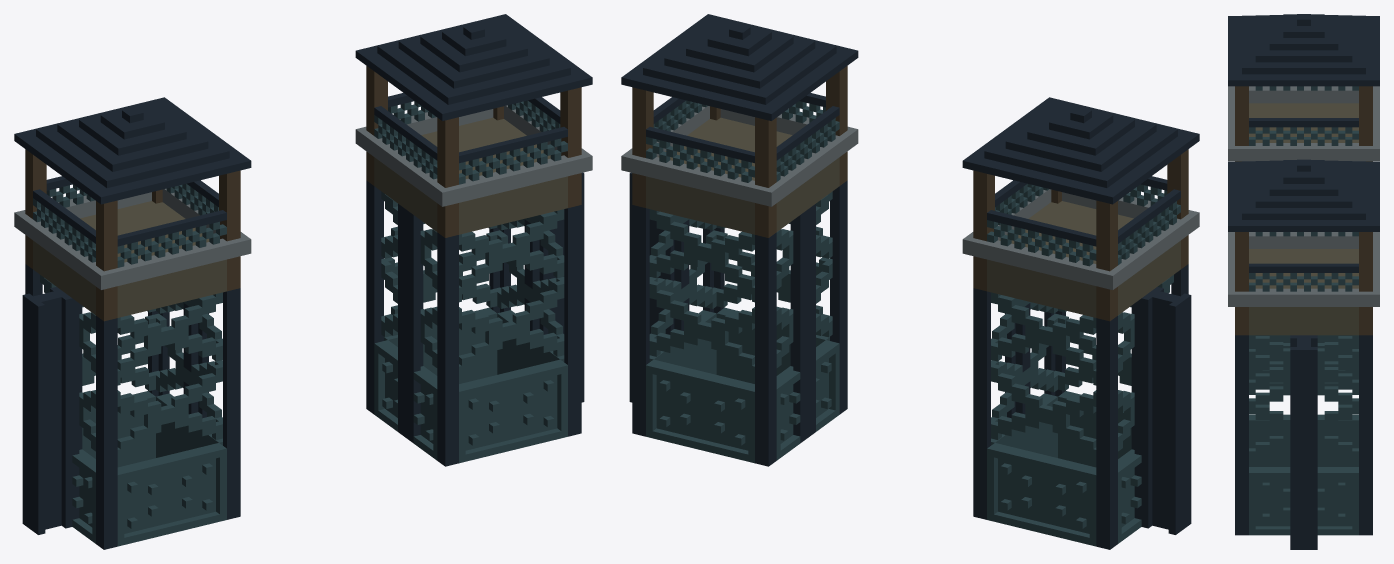
File: wall3_gate.obj
3 views of the same model, side by side, from view 1: azimuth 30°, elevation 25°; view 2: azimuth 150°, elevation 25°; view 3: azimuth 270°, elevation 25° (orthographic). The views are drawn at different scales.
Size of the model in its own units: 8 by 5.5 by 2.2.
Materials: 1 (1 with a texture image).
